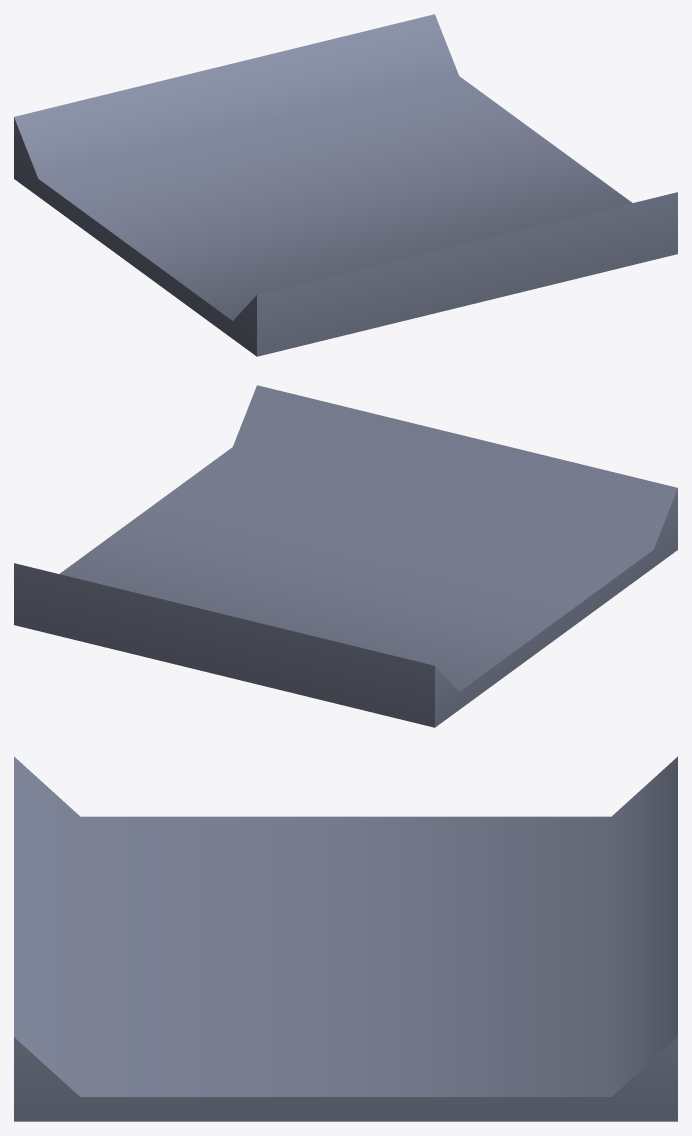
The model's file is roof-high-flat.glb.
The picture shows the model from 3 angles, top to bottom: view 1: azimuth 30°, elevation 25°; view 2: azimuth 150°, elevation 25°; view 3: azimuth 270°, elevation 25°; orthographic projection. The views are drawn at different scales.
Parts seen in each view (by area): view 1: roof-high-flat; view 2: roof-high-flat; view 3: roof-high-flat.
Part boxes in pixels (x1,y1,x2,y2): roof-high-flat: (14,14,677,356); roof-high-flat: (14,385,677,727); roof-high-flat: (14,756,677,1121).
Bounding box in the file's own units: 1 × 0.1408 × 1.
1 material, 1 textured.
